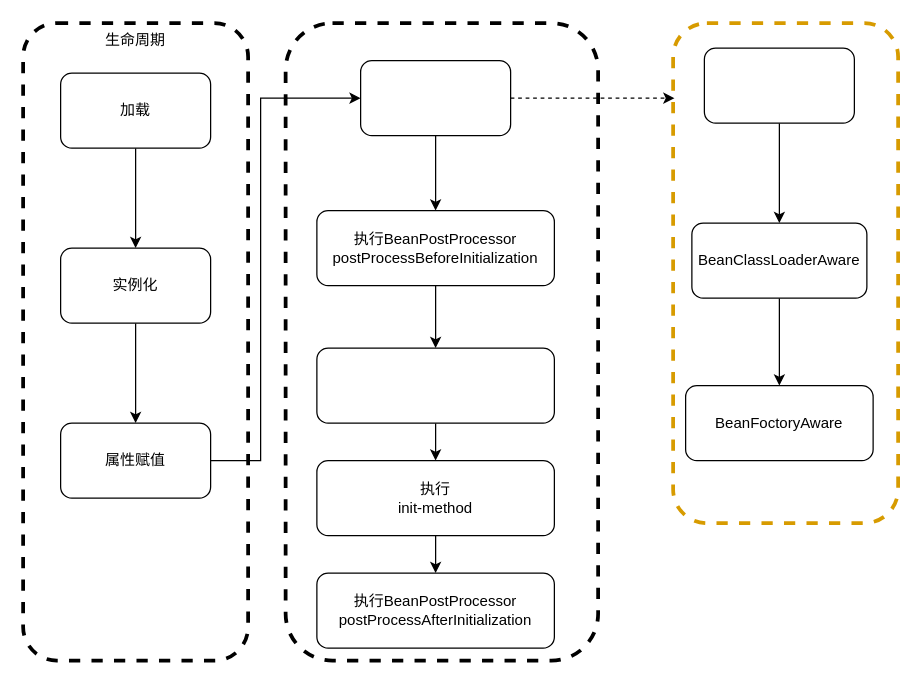
The diagram is 921 pixels wide and 684 high, and some of its shapes have lost their labels. Here are the shapes that lost their labels. From the top down, the box of each, then its label:
(359, 59, 511, 136): 执行*Aware接口
(703, 47, 854, 123): BeanNameAware
(283, 21, 599, 662): 扩展点
(316, 347, 554, 423): 执行InitializingBean afterPropertiesSet
